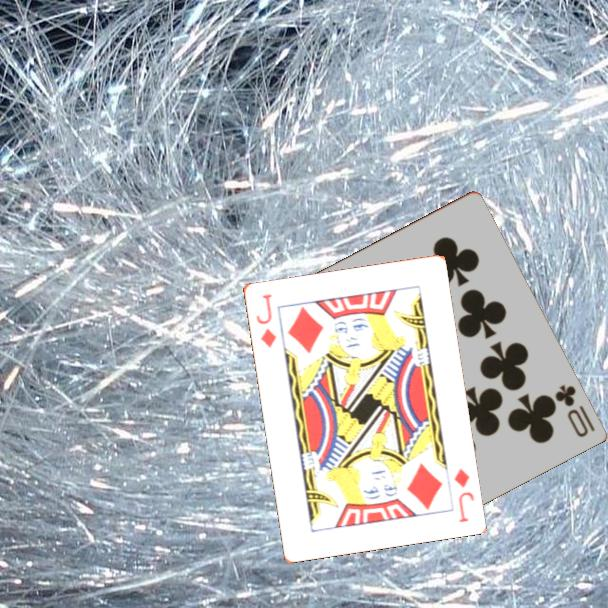c10: (551, 381, 598, 440)
d11: (252, 290, 279, 350), (450, 465, 477, 525)
